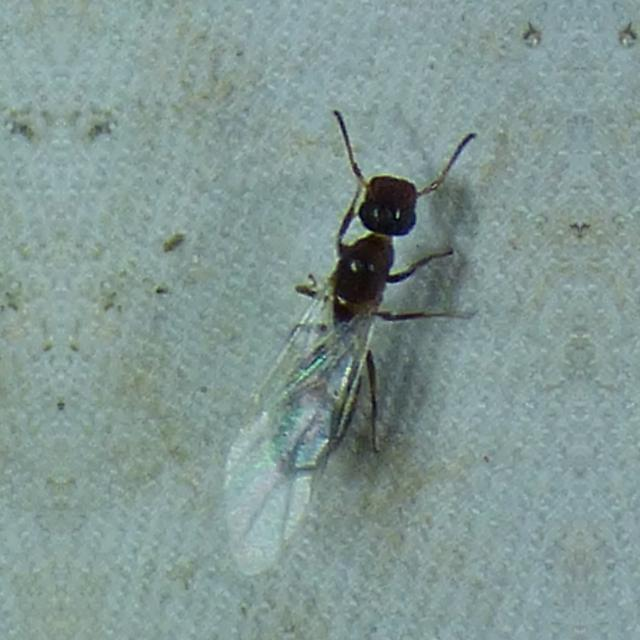Colobopsis: (226, 123, 486, 483)
